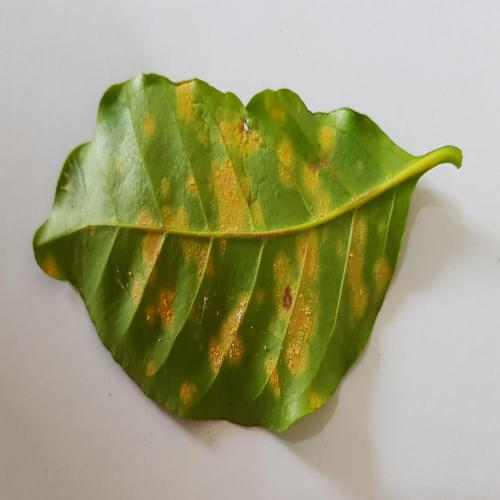phoma: (176, 80, 195, 121)
